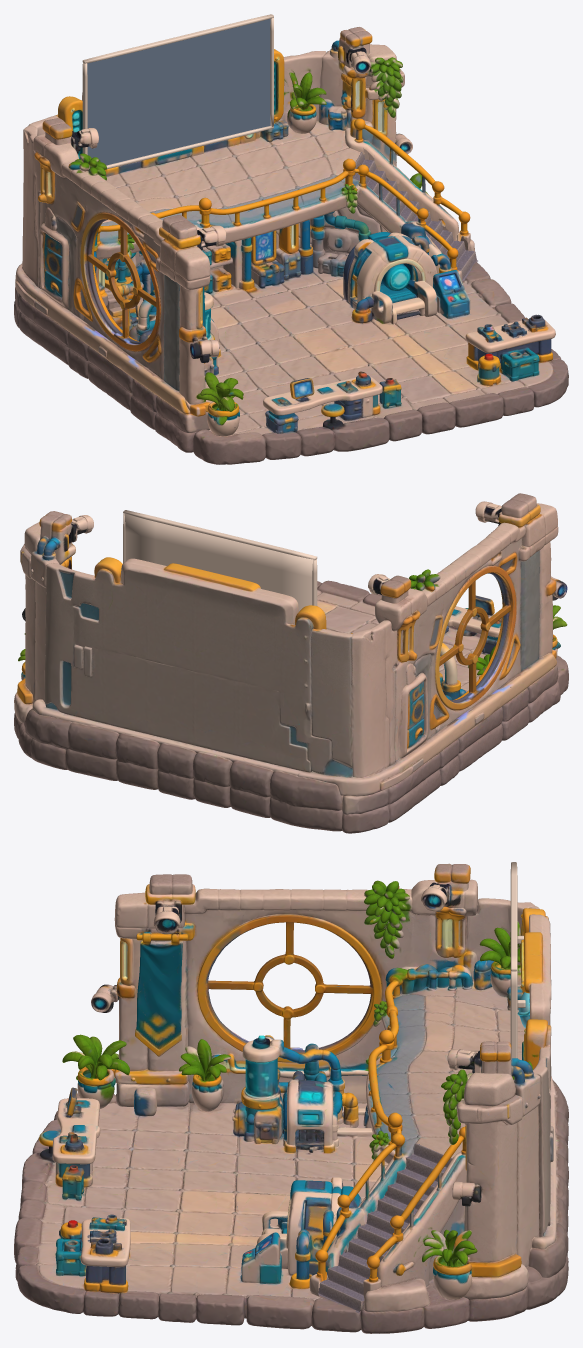
The model's file is kfb-meshy-utopia-stage.screen-a.v1.glb.
The picture shows the model from 3 angles, top to bottom: view 1: azimuth 30°, elevation 25°; view 2: azimuth 150°, elevation 25°; view 3: azimuth 270°, elevation 25°; orthographic projection. The views are drawn at different scales.
Visible parts, largest first — view 1: utopia_stage, kfb_screen_slot, kfb_screen_frame; view 2: utopia_stage, kfb_screen_frame; view 3: utopia_stage, kfb_screen_frame.
Boxes of the visible parts, <box> form: utopia_stage: <box>14,27,568,464</box>; kfb_screen_slot: <box>87,19,270,165</box>; kfb_screen_frame: <box>82,14,273,169</box>; utopia_stage: <box>14,493,568,833</box>; kfb_screen_frame: <box>123,510,317,611</box>; utopia_stage: <box>14,863,568,1333</box>; kfb_screen_frame: <box>510,862,525,1058</box>.
Bounding box in the file's own units: 1.84 × 1.1 × 1.9.
4 materials, 2 textured.
